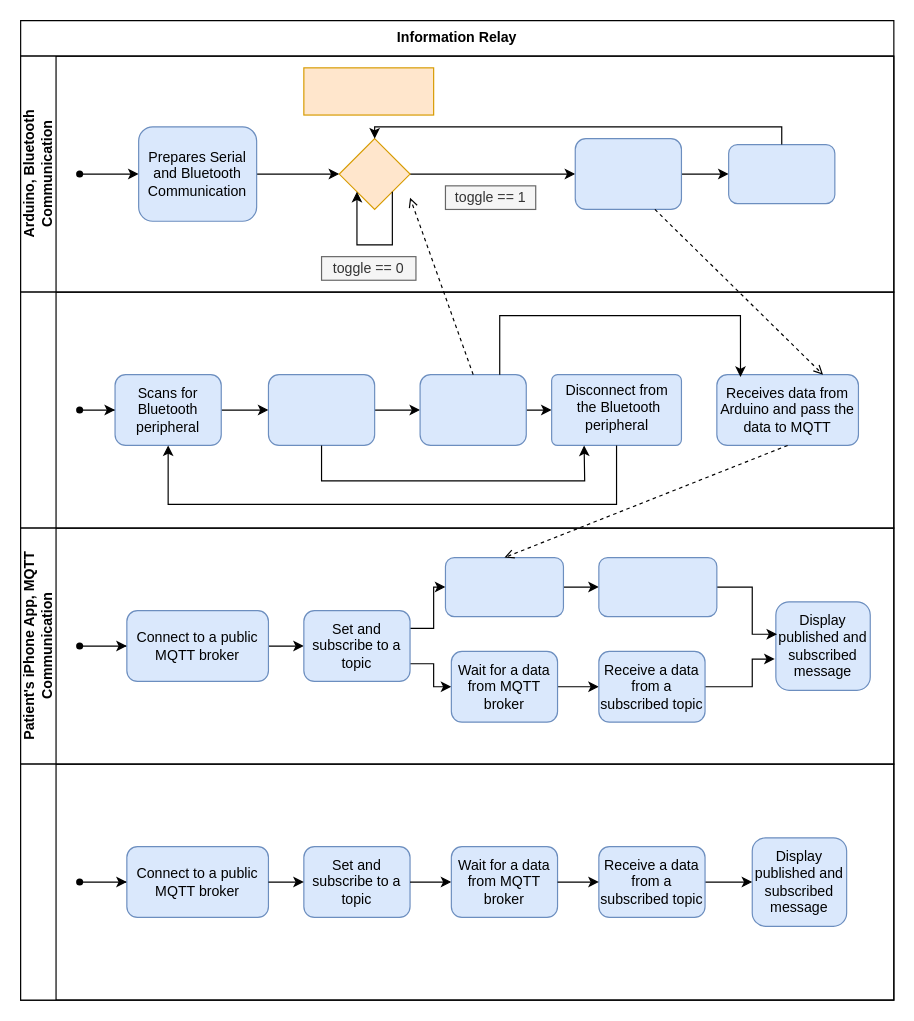
Some shapes in this 914 by 1021 pixel diagram are drawn without their labels. Here are the shapes that lost their labels. From the top down, the box of each, then its label:
(303, 67, 434, 115): Checks for toggle from Bluetooth to start transmit data
(574, 137, 681, 209): Sends counter value via Bluetooth
(727, 143, 835, 204): counter++
(267, 373, 375, 445): Connect to a Bluetooth peripheral
(19, 291, 894, 528): Patient's iPhone App, Bluetooth Communication
(419, 373, 526, 445): Transmit toggle to peripheral
(444, 556, 563, 617): Wait for a data from Bluetooth
(598, 556, 717, 617): Publish the data to a MQTT broker
(19, 763, 894, 1000): Doctor's iPhone App, MQTT
